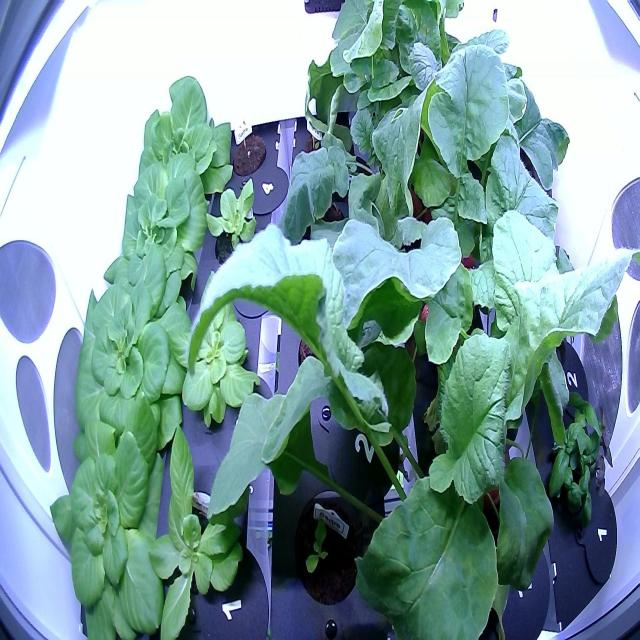pod: (228, 121, 270, 188)
young: (45, 394, 178, 639), (55, 244, 203, 464), (139, 420, 271, 640), (96, 148, 218, 312), (125, 65, 236, 202), (176, 289, 266, 440), (287, 479, 369, 610), (202, 167, 270, 272)
